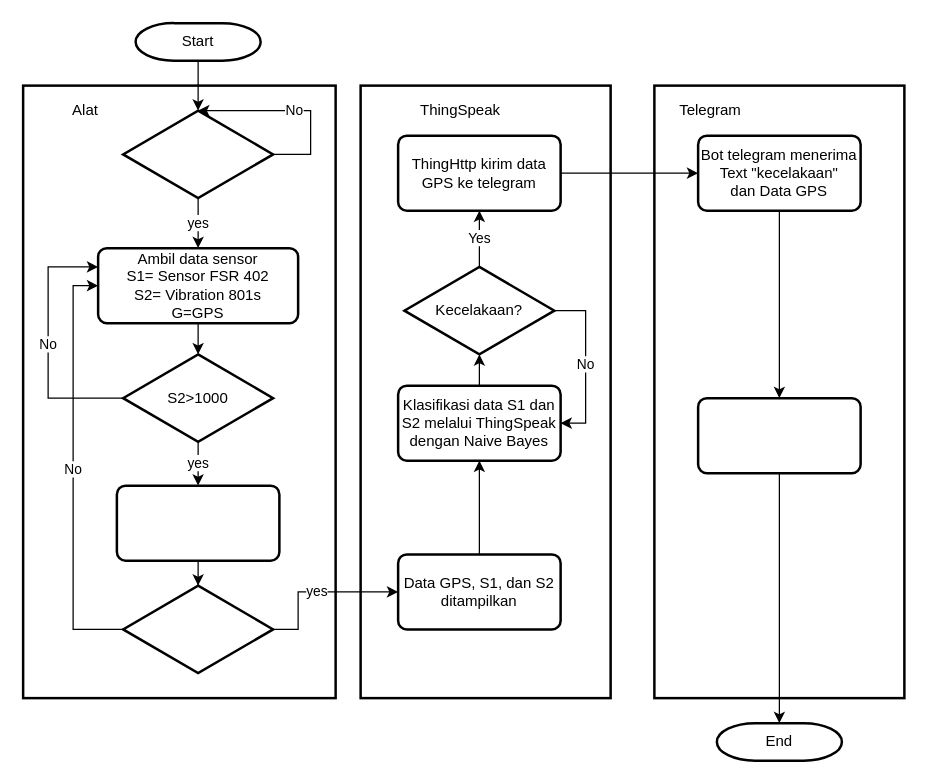
This 926x783 diagram has some shape labels left out. The shapes that lost their labels are listed below. From the top down, each one's box as (x1, y1, x2, y2) in pixels, then its label:
(121, 109, 274, 199): Sinkronisasi wifi
(696, 396, 861, 474): Notifikasi Telegram ke chat id keluarga korban
(115, 484, 280, 561): Kirim Data GPS, S1 dan S2 ke thingspeak
(121, 584, 274, 674): Data Terkirim
